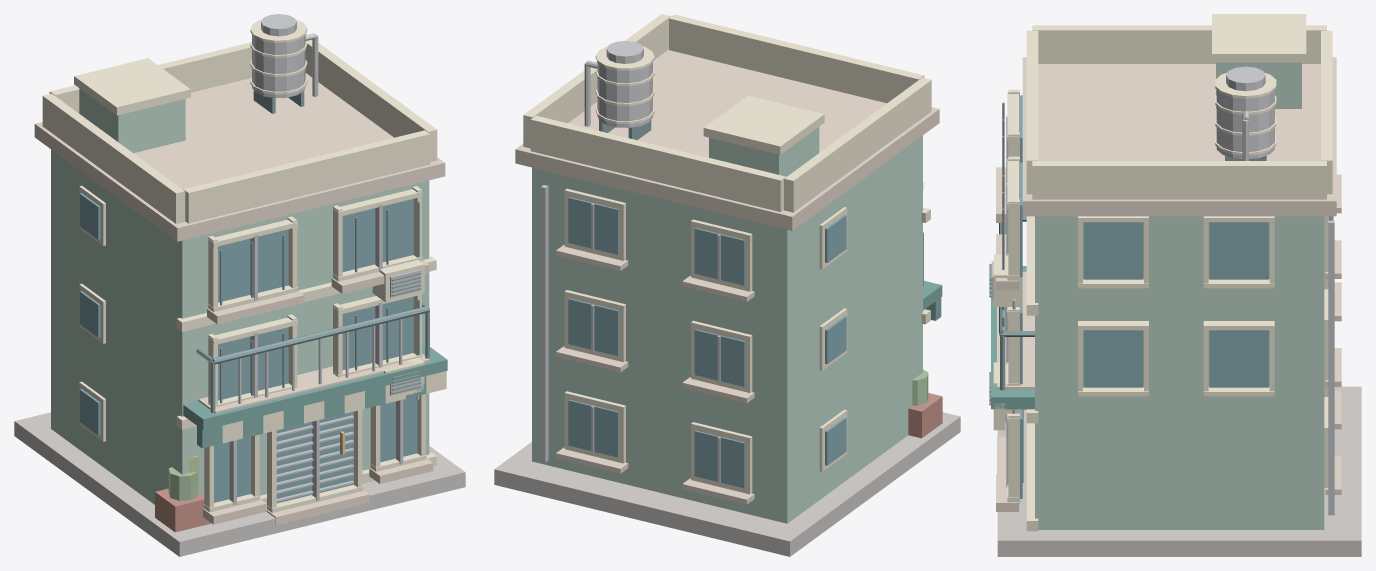
File: town-tiantou-1.glb
3 views of the same model, side by side, from view 1: azimuth 30°, elevation 25°; view 2: azimuth 150°, elevation 25°; view 3: azimuth 270°, elevation 25° (orthographic). The views are drawn at different scales.
Parts seen in each view (by area): view 1: paving; view 2: paving; view 3: paving.
Part boxes in pixels (bbox=[...]): paving: bbox=[14, 14, 465, 556]; paving: bbox=[494, 14, 960, 556]; paving: bbox=[989, 14, 1361, 556].
Size of the model in its own units: 2.2 by 2.95 by 2.25.
Materials: 1 (1 with a texture image).
